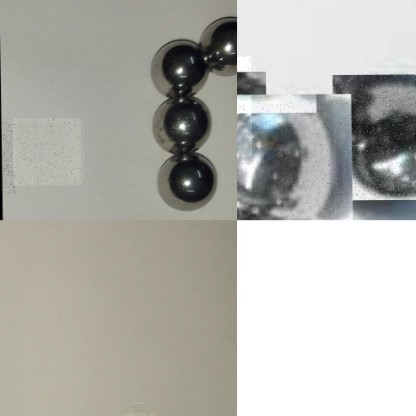ironball: (237, 94, 352, 220), (332, 73, 415, 200), (146, 36, 217, 99), (146, 97, 217, 155), (158, 155, 218, 213), (198, 13, 238, 81)
